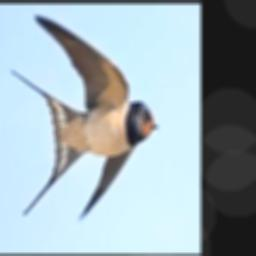Swallow: (11, 14, 158, 220)
